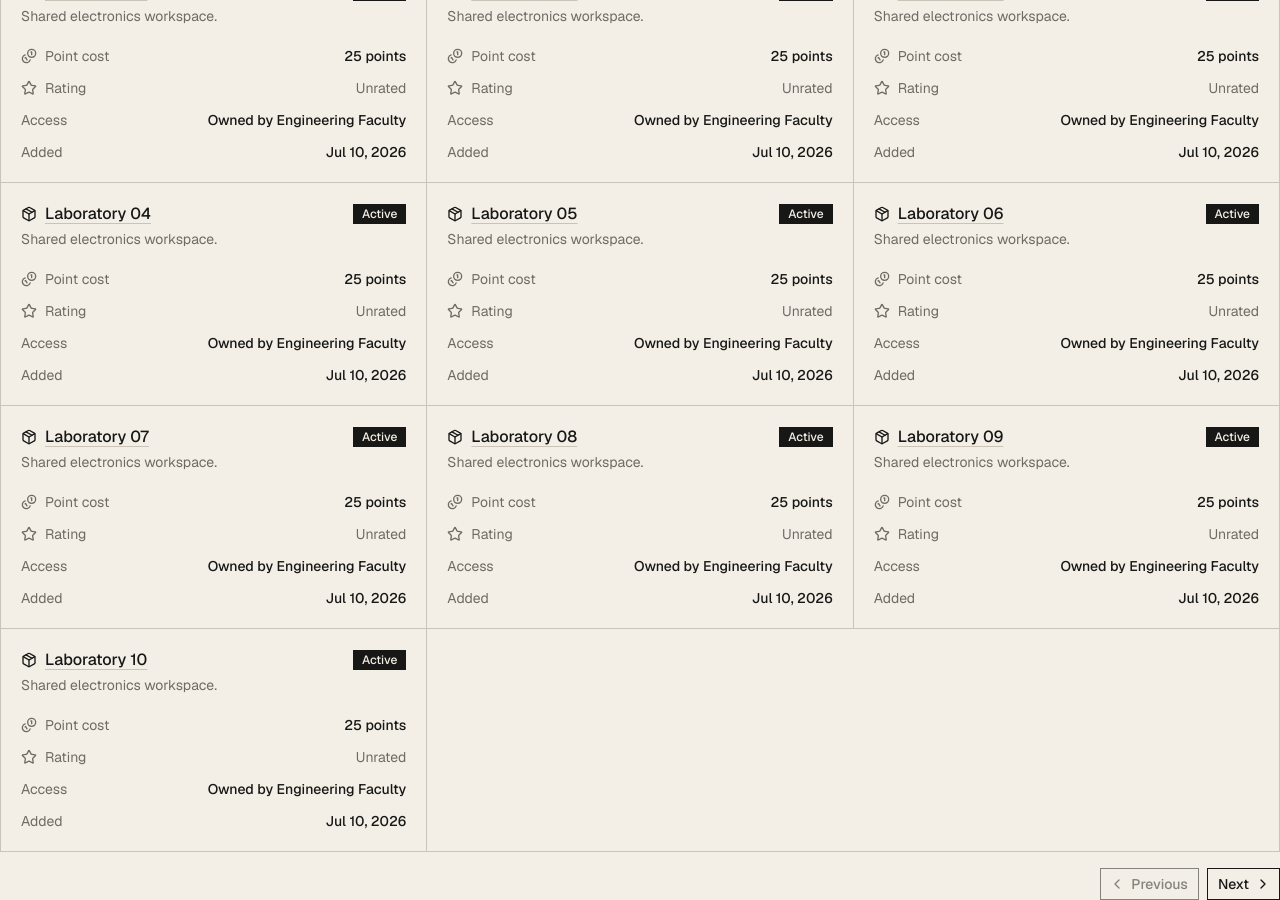
ResourceCatalogue › paginates combined organization results in the frontend
(page scrolled)
Click the button "Next".
click(1243, 884)  # box [1207, 868, 1279, 899]
(page scrolled)
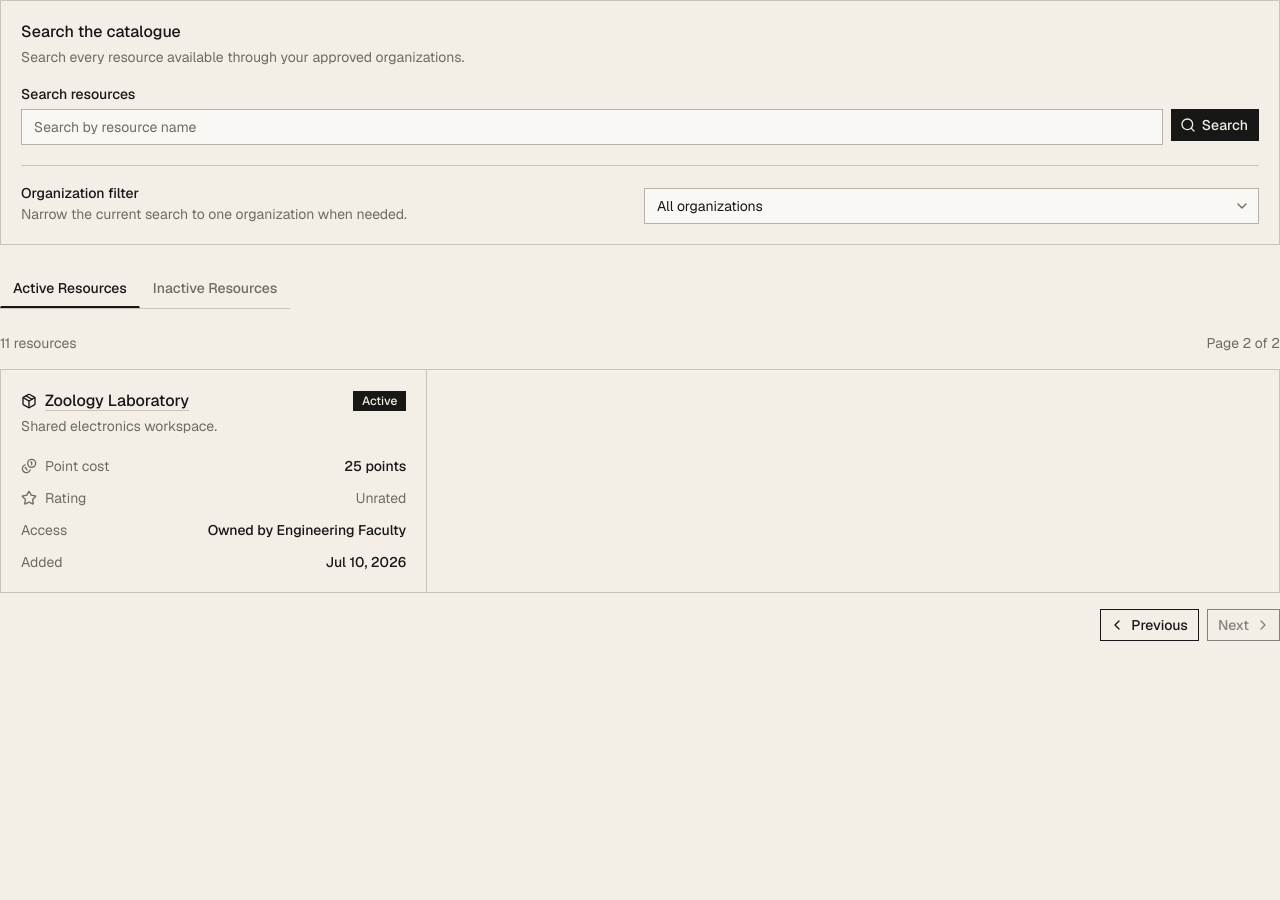
Expected: the link "Zoology Laboratory" is shown, [45, 390, 189, 412]
